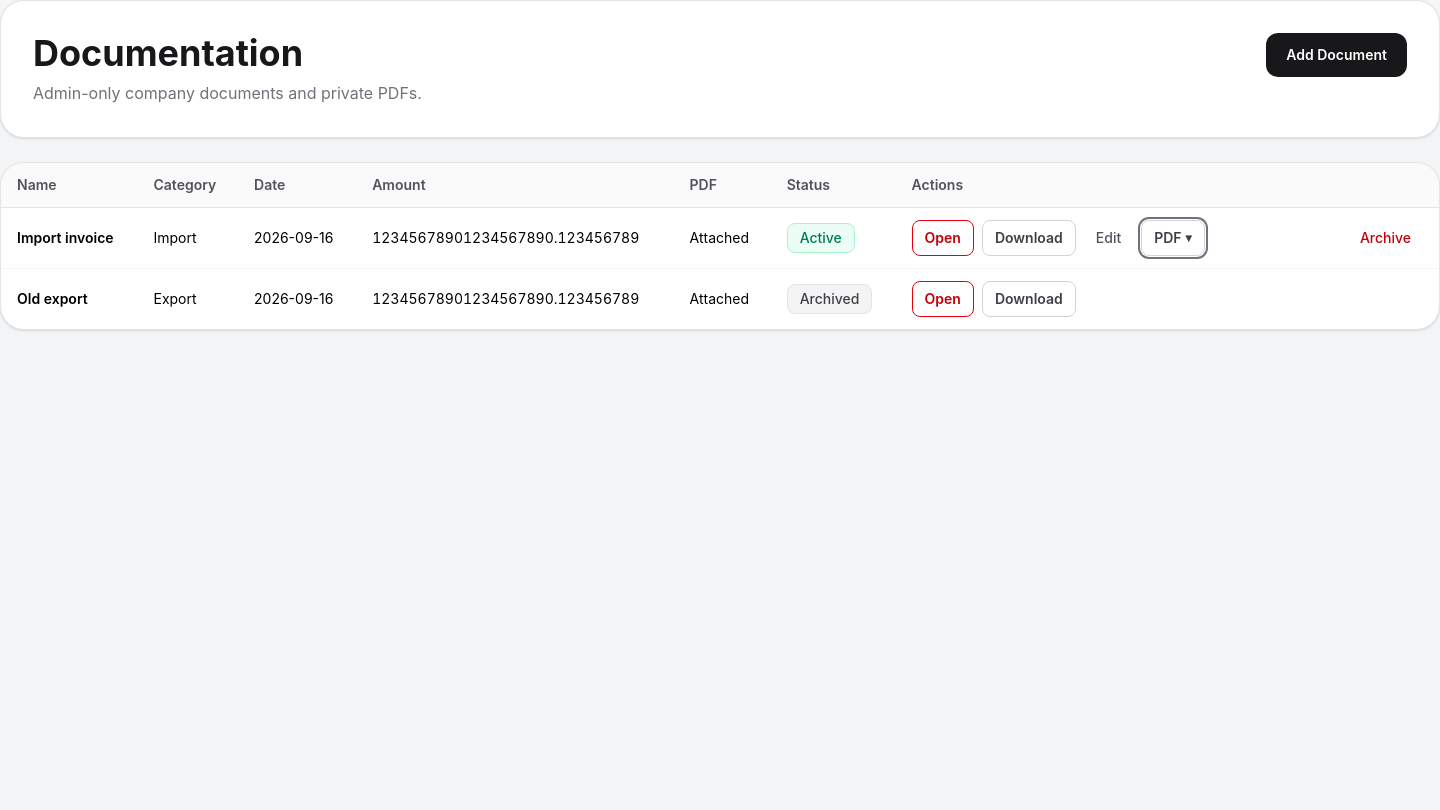
Test: Documentation page › supports keyboard menu navigation, Escape, and outside-click closing
Press ArrowDown in the button with aria-label "PDF actions for Import invoice", box [1141,220,1205,256]
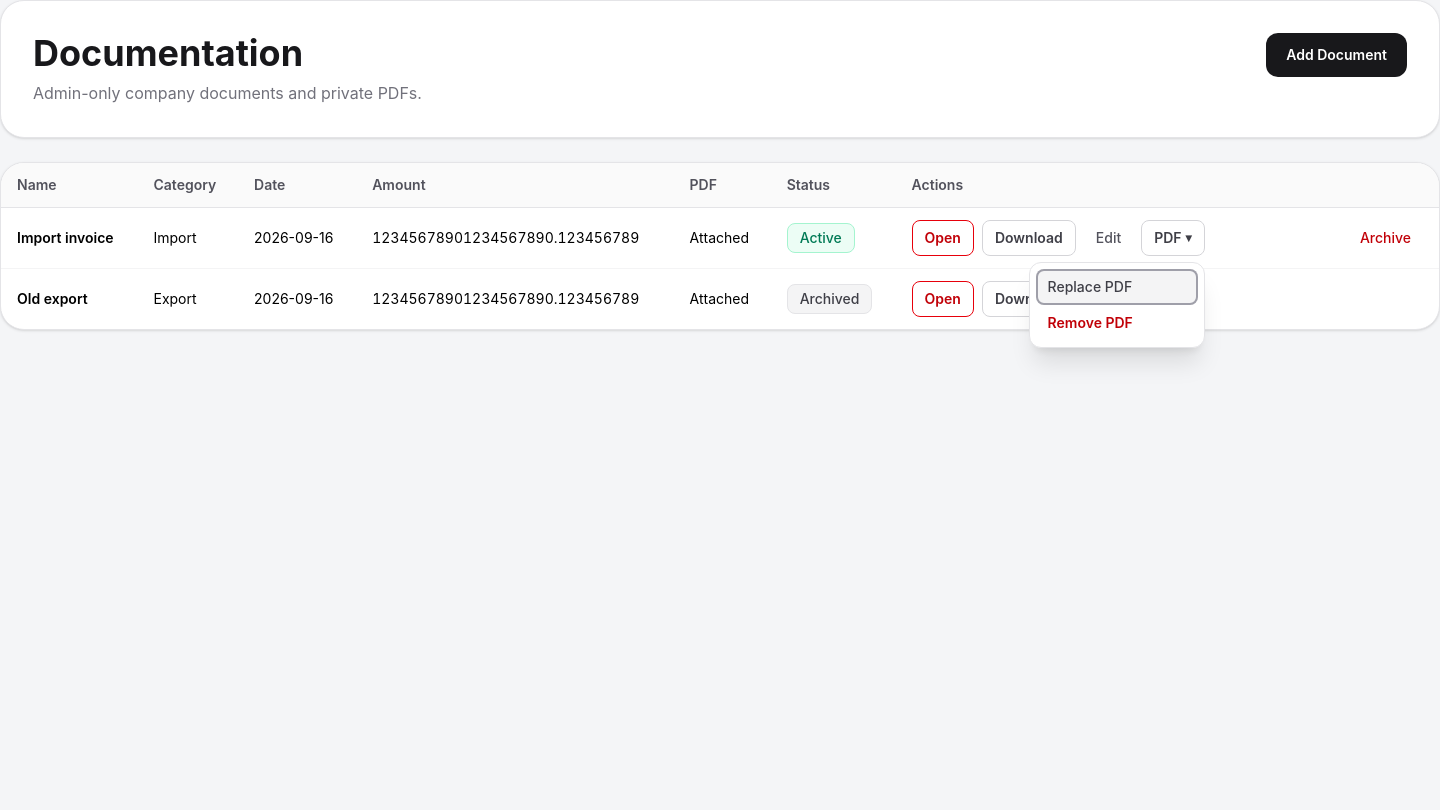
Press ArrowDown in the menu item "Replace PDF", box [1036,269,1198,305]
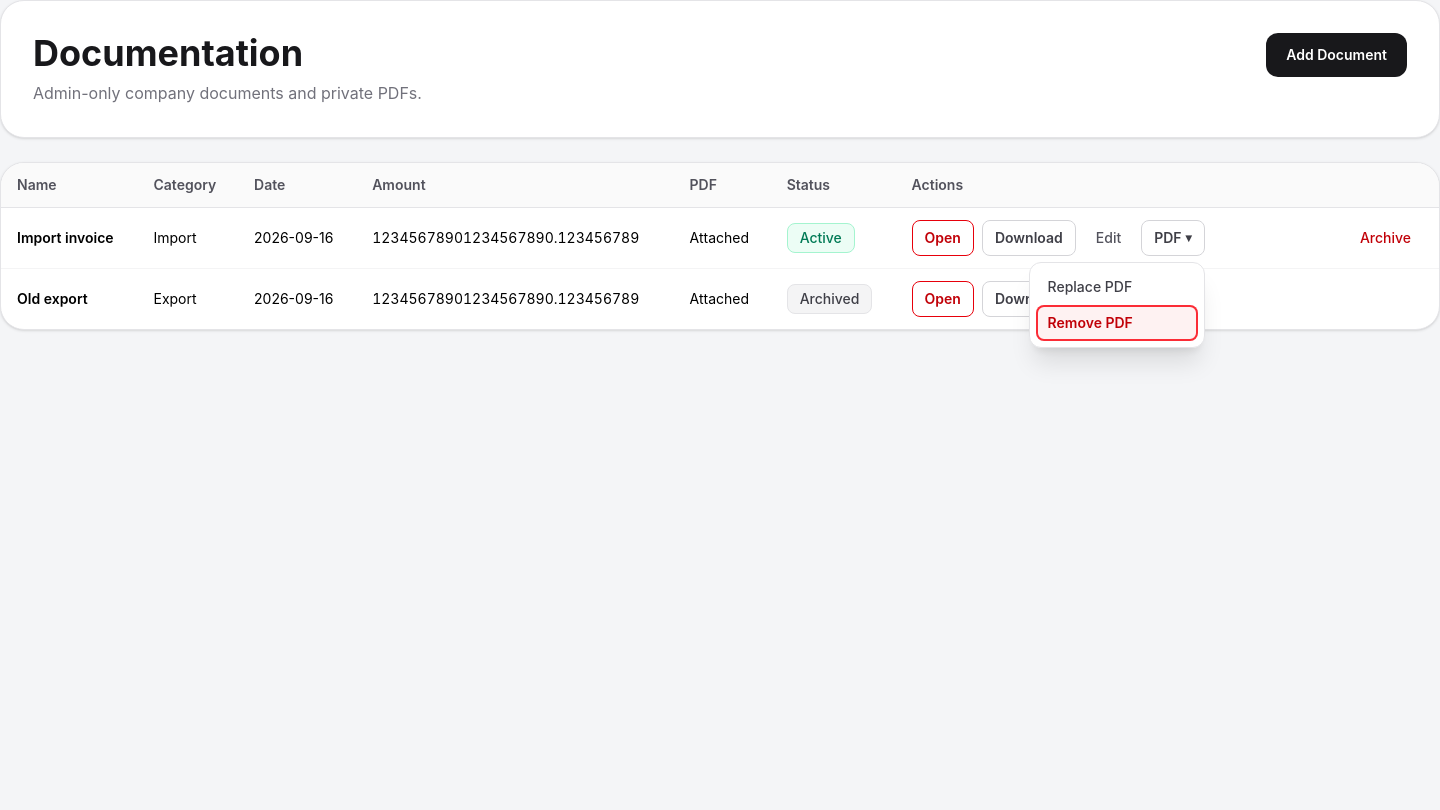
Press Escape in the menu item "Remove PDF", box [1036,305,1198,341]
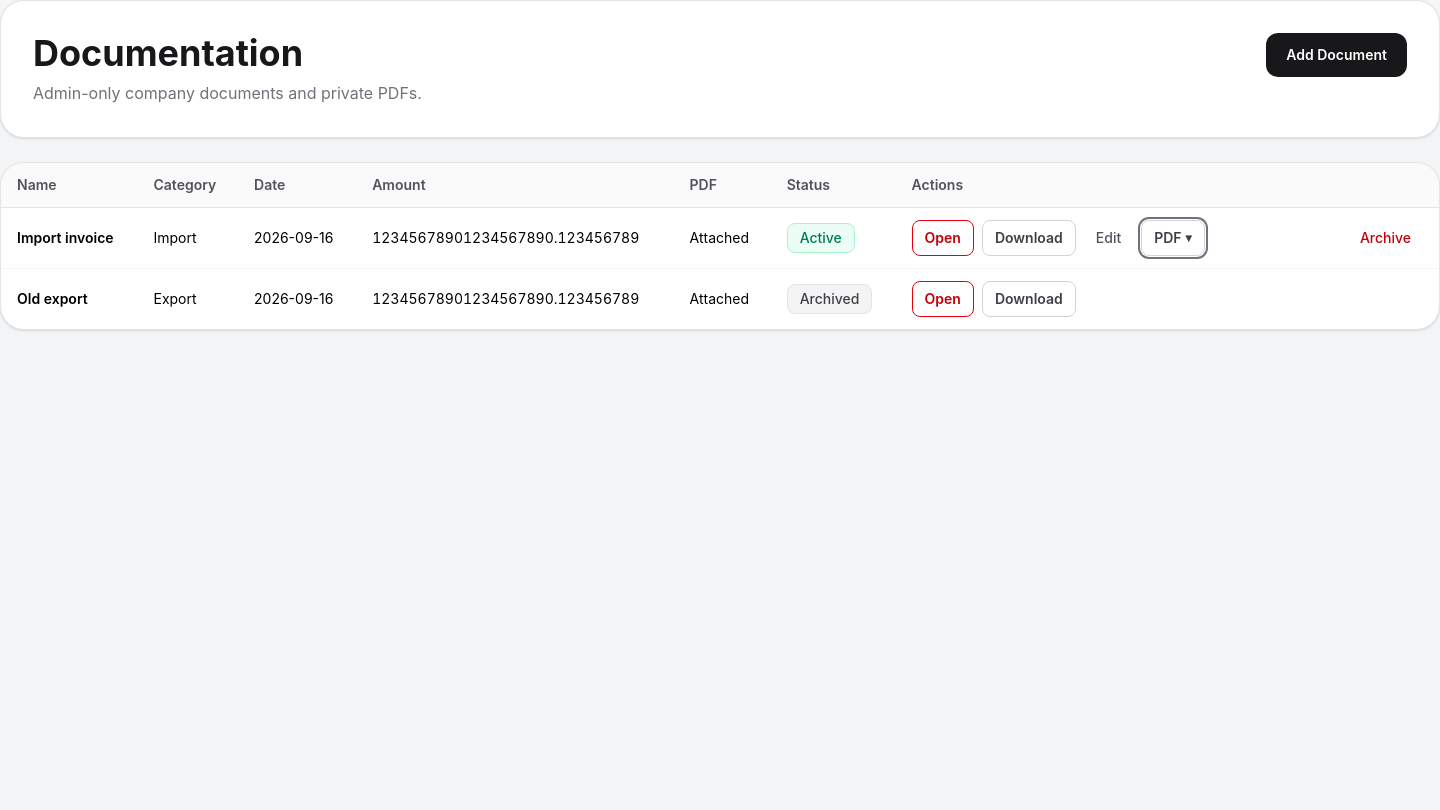
Expected: the menu is gone
Click the button with aria-label "PDF actions for Import invoice": (1173, 238) [1141,220,1205,256]
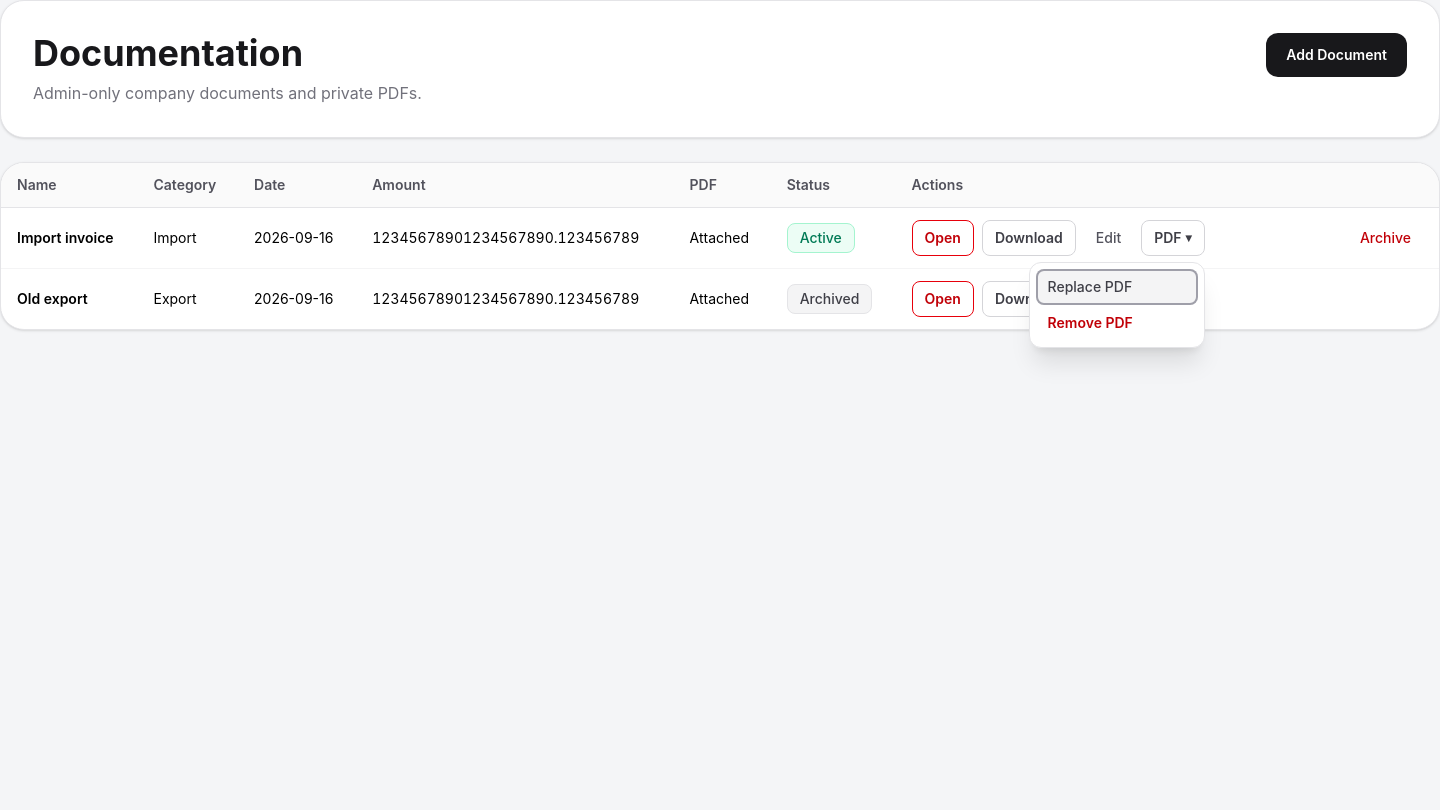
Expected: the menu is shown, [1029,262,1205,348]
Press the mouse on the element that starts with "Documentation": (720, 405) [0,0,1439,809]
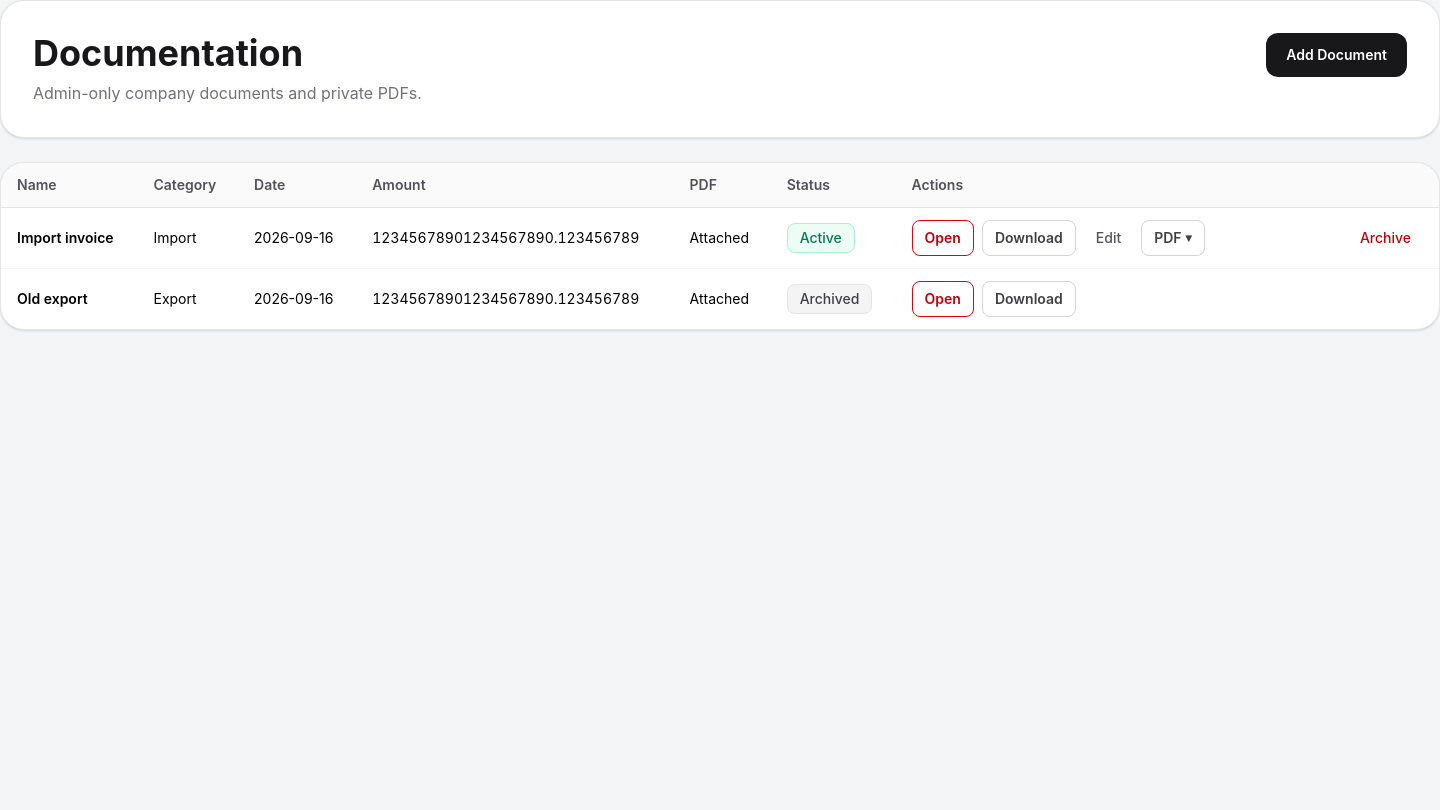
Expected: the menu is gone
